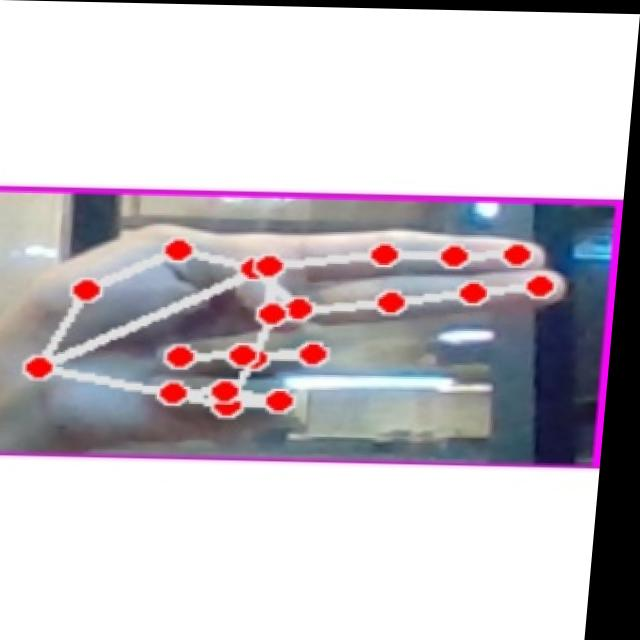H: (0, 205, 591, 452)
